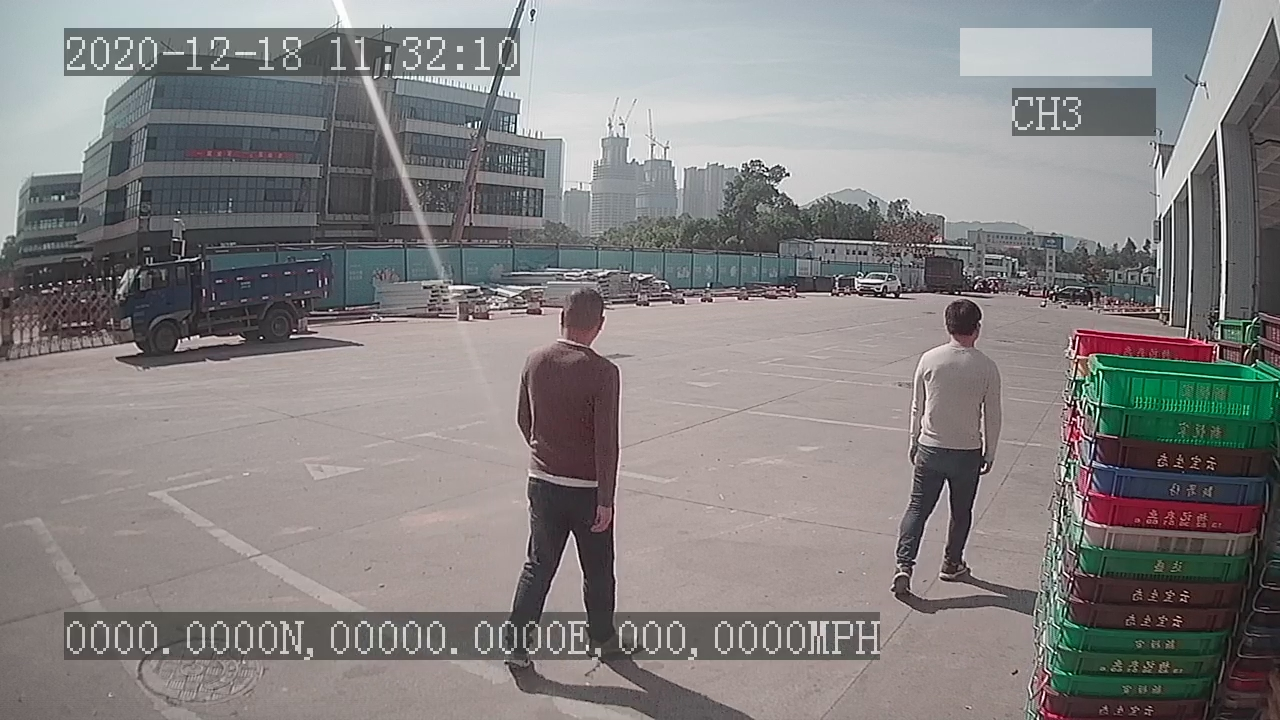person: (891, 296, 1007, 599)
